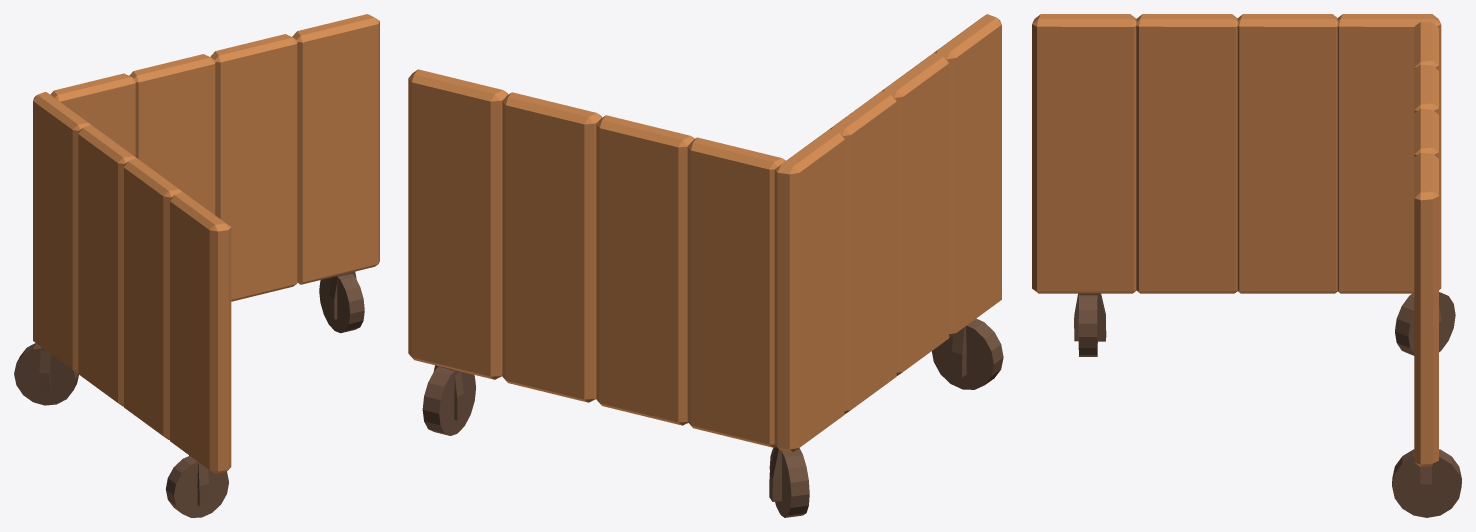
File: Barricades_2.fbx
3 renders of one model, left to right at view 1: azimuth 30°, elevation 25°; view 2: azimuth 150°, elevation 25°; view 3: azimuth 270°, elevation 25°, orthographic. The views are drawn at different scales.
Parts seen in each view (by area): view 1: barricades_2.009, barricades_2.008, barricades_2.002, barricades_2.016, barricades_2.005, barricades_2.004, barricades_2.001, barricades_2.003, barricades_2.017, barricades_2.010, barricades_2.015, barricades_2.011 (+4 smaller); view 2: barricades_2.006, barricades_2.009, barricades_2.007, barricades_2.005, barricades_2.008, barricades_2.016, barricades_2.004, barricades_2.003, barricades_2.002, barricades_2.017, barricades_2.001, barricades_2.015 (+5 smaller); view 3: barricades_2.004, barricades_2.002, barricades_2.003, barricades_2.005, barricades_2.010, barricades_2.011, barricades_2.012, barricades_2.001, barricades_2.013, barricades_2.017, barricades_2.009, barricades_2.015 (+2 smaller).
Part boxes in pixels (left/top/right/bottom): barricades_2.009: left=297, top=78, right=379, bottom=284; barricades_2.008: left=215, top=137, right=297, bottom=301; barricades_2.002: left=170, top=290, right=231, bottom=473; barricades_2.016: left=210, top=34, right=297, bottom=177; barricades_2.005: left=33, top=138, right=78, bottom=373; barricades_2.004: left=78, top=208, right=123, bottom=406; barricades_2.001: left=14, top=271, right=364, bottom=517; barricades_2.003: left=124, top=258, right=169, bottom=439; barricades_2.017: left=292, top=14, right=379, bottom=127; barricades_2.010: left=170, top=192, right=231, bottom=328; barricades_2.015: left=129, top=54, right=215, bottom=158; barricades_2.011: left=124, top=158, right=183, bottom=271; barricades_2.006: left=687, top=201, right=775, bottom=447; barricades_2.009: left=408, top=142, right=502, bottom=379; barricades_2.007: left=596, top=187, right=687, bottom=425; barricades_2.005: left=774, top=193, right=844, bottom=452; barricades_2.008: left=502, top=213, right=596, bottom=402; barricades_2.016: left=502, top=92, right=601, bottom=255; barricades_2.004: left=844, top=187, right=896, bottom=413; barricades_2.003: left=896, top=143, right=948, bottom=375; barricades_2.002: left=949, top=130, right=1001, bottom=337; barricades_2.017: left=408, top=69, right=508, bottom=200; barricades_2.001: left=422, top=318, right=1003, bottom=517; barricades_2.015: left=596, top=115, right=694, bottom=238; barricades_2.004: left=1237, top=97, right=1337, bottom=293; barricades_2.002: left=1032, top=108, right=1136, bottom=293; barricades_2.003: left=1136, top=92, right=1237, bottom=293; barricades_2.005: left=1337, top=56, right=1441, bottom=293; barricades_2.010: left=1032, top=14, right=1136, bottom=130; barricades_2.011: left=1136, top=14, right=1237, bottom=136; barricades_2.012: left=1237, top=14, right=1337, bottom=107; barricades_2.001: left=1074, top=292, right=1461, bottom=517; barricades_2.013: left=1337, top=14, right=1441, bottom=80; barricades_2.017: left=1414, top=152, right=1438, bottom=318; barricades_2.009: left=1414, top=309, right=1438, bottom=466; barricades_2.015: left=1414, top=64, right=1438, bottom=114.
Bounding box in the file's own units: 384 × 312 × 360.
